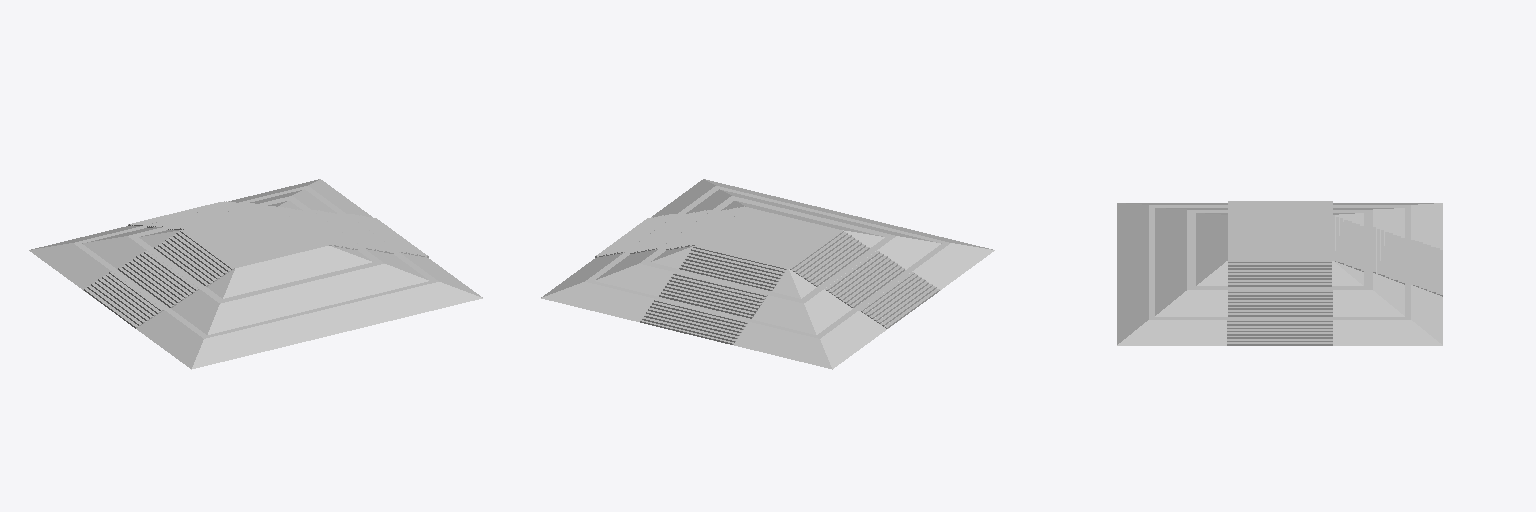
File: LaikaStatueUVSmooth_collider.obj
The picture shows the model from 3 angles: view 1: azimuth 30°, elevation 25°; view 2: azimuth 150°, elevation 25°; view 3: azimuth 270°, elevation 25°; orthographic projection.
Parts seen in each view (by area): view 1: Cube.001, Cube.012, Cube.011, Cube.010, Cube.007, Cube.008, Cube.009, Cube.014; view 2: Cube.001, Cube.014, Cube.013, Cube.015, Cube.011, Cube.012, Cube.010, Cube.007, Cube.008, Cube.009; view 3: Cube.001, Cube.008, Cube.007, Cube.009, Cube.013, Cube.014, Cube.015.
Boxes of the visible parts, box(x1,y1,x2,y2) form: Cube.001: box(29, 179, 482, 369); Cube.012: box(118, 251, 198, 307); Cube.011: box(154, 230, 234, 286); Cube.010: box(84, 272, 163, 328); Cube.007: box(348, 214, 428, 257); Cube.008: box(312, 210, 393, 253); Cube.009: box(277, 206, 357, 249); Cube.014: box(147, 203, 255, 227); Cube.001: box(541, 179, 994, 369); Cube.014: box(659, 272, 767, 318); Cube.013: box(640, 299, 747, 344); Cube.015: box(679, 246, 786, 290); Cube.011: box(789, 230, 869, 286); Cube.012: box(825, 251, 904, 307); Cube.010: box(859, 272, 939, 328); Cube.007: box(595, 214, 675, 257); Cube.008: box(630, 210, 711, 253); Cube.009: box(666, 206, 746, 249); Cube.001: box(1117, 203, 1442, 345); Cube.008: box(1228, 290, 1332, 316); Cube.007: box(1227, 320, 1332, 345); Cube.009: box(1228, 261, 1331, 286); Cube.013: box(1411, 240, 1442, 296); Cube.014: box(1372, 227, 1404, 284); Cube.015: box(1333, 215, 1363, 271).
Bounding box in the file's own units: 24.46 × 2.93 × 23.62.